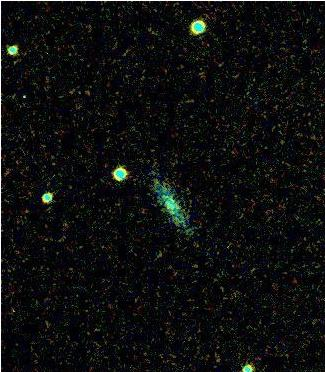star: (11, 81, 41, 111)
